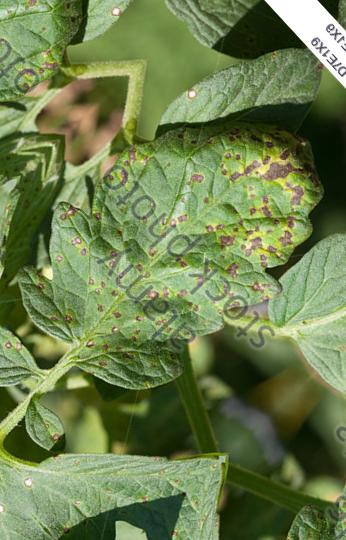Tomato Septoria leaf spot: (0, 36, 346, 430)
